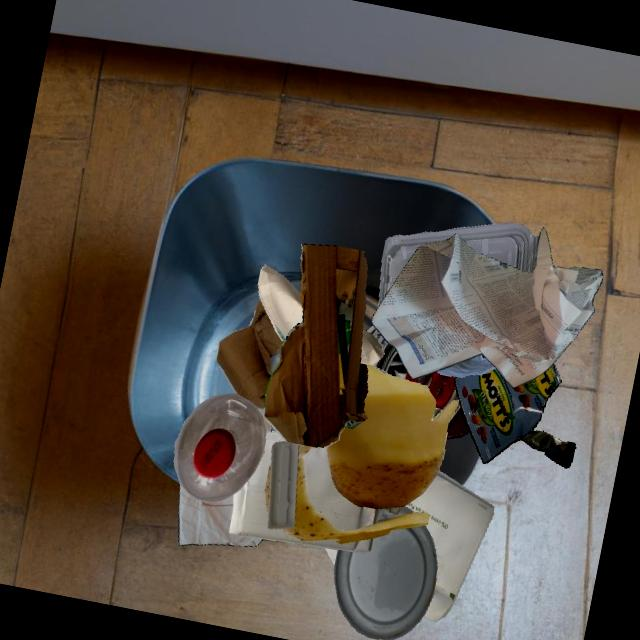biowaste: (326, 364, 458, 509)
cardboard: (263, 244, 368, 447), (216, 299, 283, 413)
glass: (382, 372, 435, 508)
metal: (366, 325, 469, 439)
paper: (371, 227, 603, 388), (229, 431, 373, 553), (404, 470, 494, 622), (302, 447, 379, 531), (179, 482, 263, 546), (258, 265, 303, 342), (360, 330, 384, 366)
plastic: (378, 223, 540, 307), (334, 525, 438, 640), (174, 393, 266, 502), (268, 441, 299, 529), (436, 355, 496, 378)
trash: (454, 363, 576, 468)
